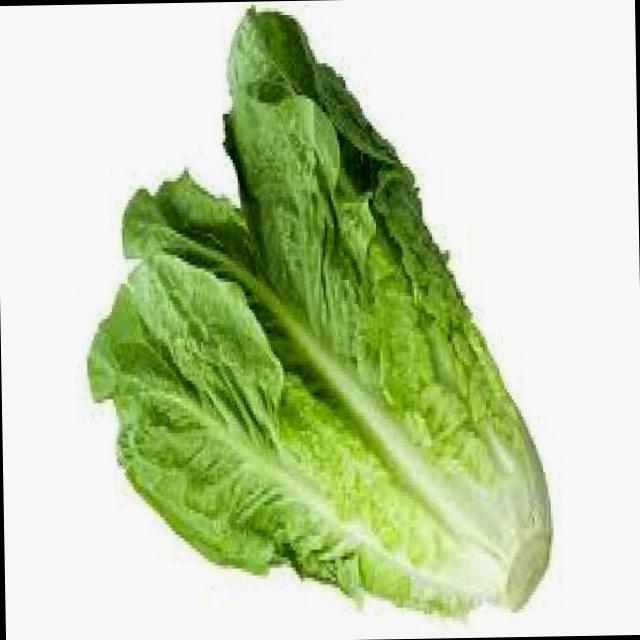Lettuce-Ready-to-Harvest: (88, 9, 551, 612)
